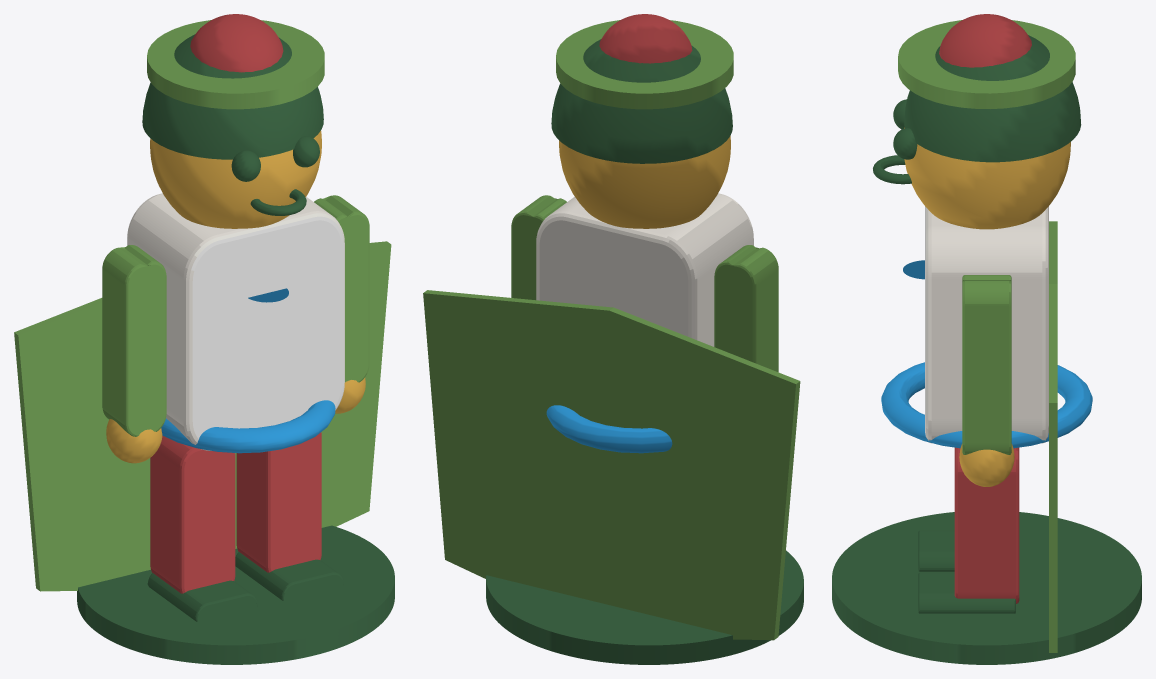
File: 1102_左传_许穆夫人.glb
3 renders of one model, left to right at view 1: azimuth 30°, elevation 25°; view 2: azimuth 150°, elevation 25°; view 3: azimuth 270°, elevation 25°, orthographic.
Visible parts, largest first — view 1: card_1102; view 2: card_1102; view 3: card_1102.
Part boxes in pixels (x1,y1,x2,y2): card_1102: [14, 14, 394, 664]; card_1102: [423, 14, 803, 664]; card_1102: [832, 14, 1141, 664].
Size of the model in its own units: 0.6589 by 1 by 0.4752.
